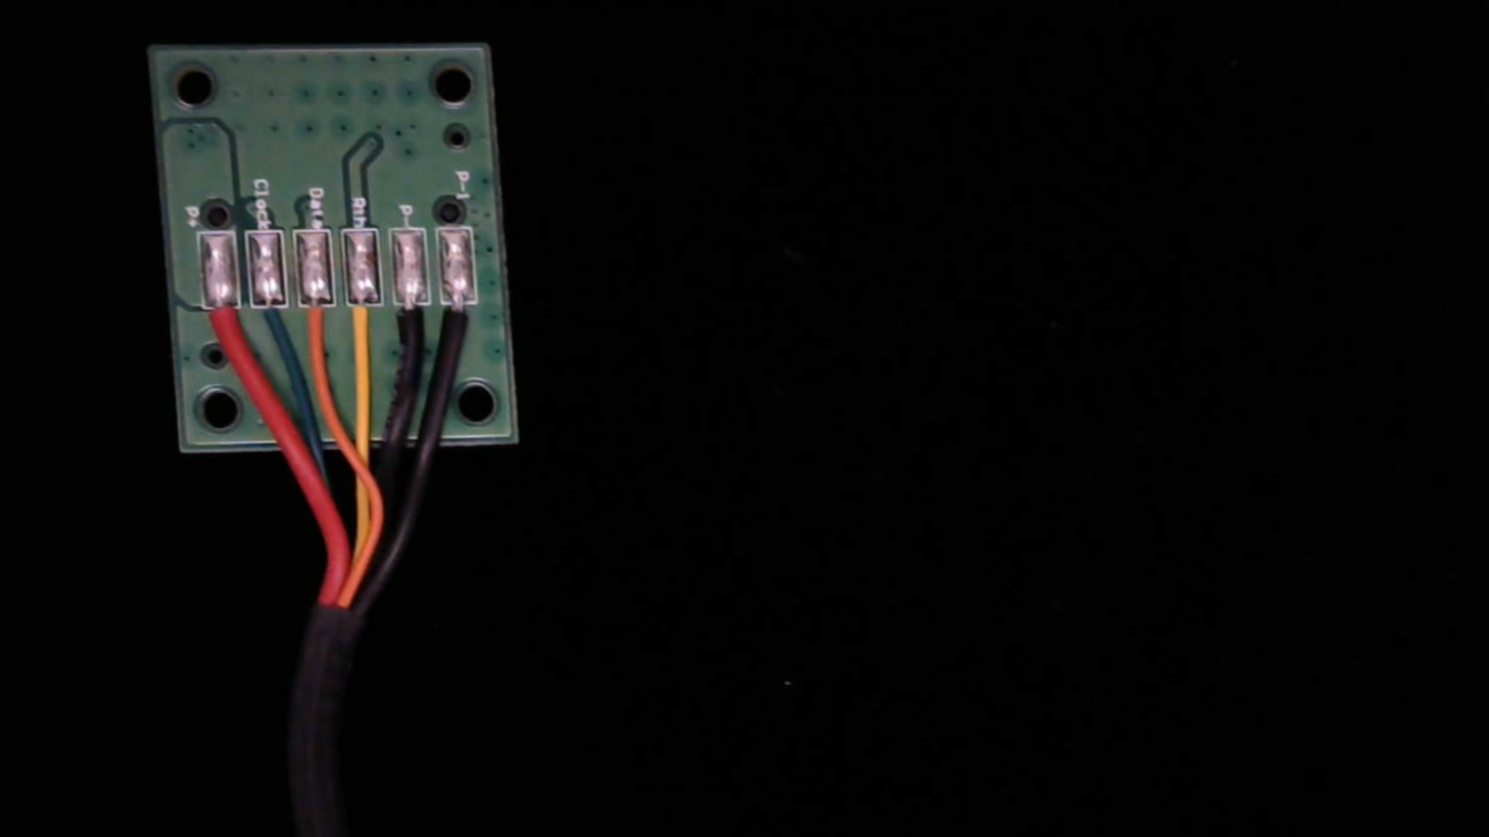Black: (391, 285, 435, 361)
Black1: (439, 284, 481, 364)
Green: (249, 287, 291, 357)
Orange: (297, 289, 340, 364)
Red: (200, 291, 245, 375)
Yellow: (342, 285, 383, 363)
